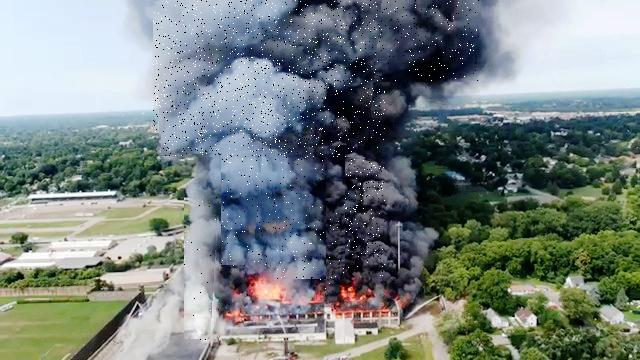smoke: (162, 0, 386, 157), (154, 1, 309, 133), (272, 0, 479, 82), (222, 65, 273, 268), (270, 157, 326, 279), (184, 191, 219, 342), (346, 160, 386, 277), (318, 199, 346, 290)
